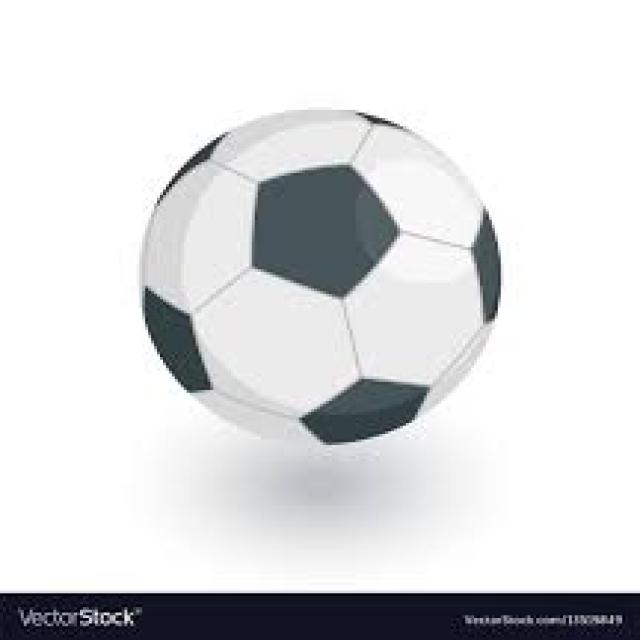football: (133, 102, 510, 453)
